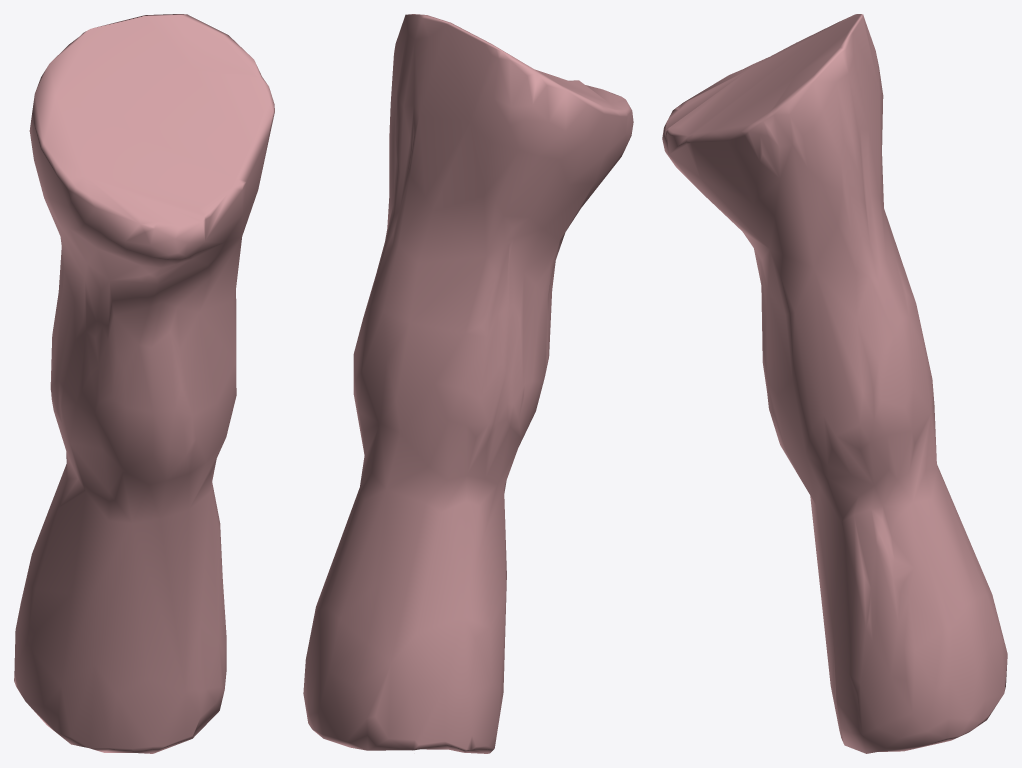
File: fma55141_mm1172.glb
3 renders of one model, left to right at view 1: azimuth 30°, elevation 25°; view 2: azimuth 150°, elevation 25°; view 3: azimuth 270°, elevation 25°, orthographic. The views are drawn at different scales.
Visible parts, largest first — view 1: FMA55141_MM1172; view 2: FMA55141_MM1172; view 3: FMA55141_MM1172.
Boxes of the visible parts, box(x1,y1,x2,y2) form: FMA55141_MM1172: box(14, 14, 274, 753); FMA55141_MM1172: box(303, 14, 633, 753); FMA55141_MM1172: box(662, 14, 1007, 753).
Bounding box in the file's own units: 0.00374 × 0.0111 × 0.00498.
